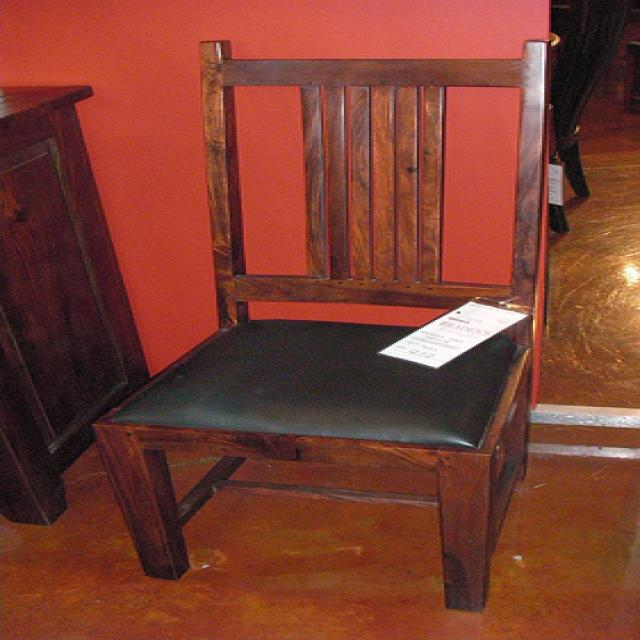chair: (89, 32, 556, 612)
